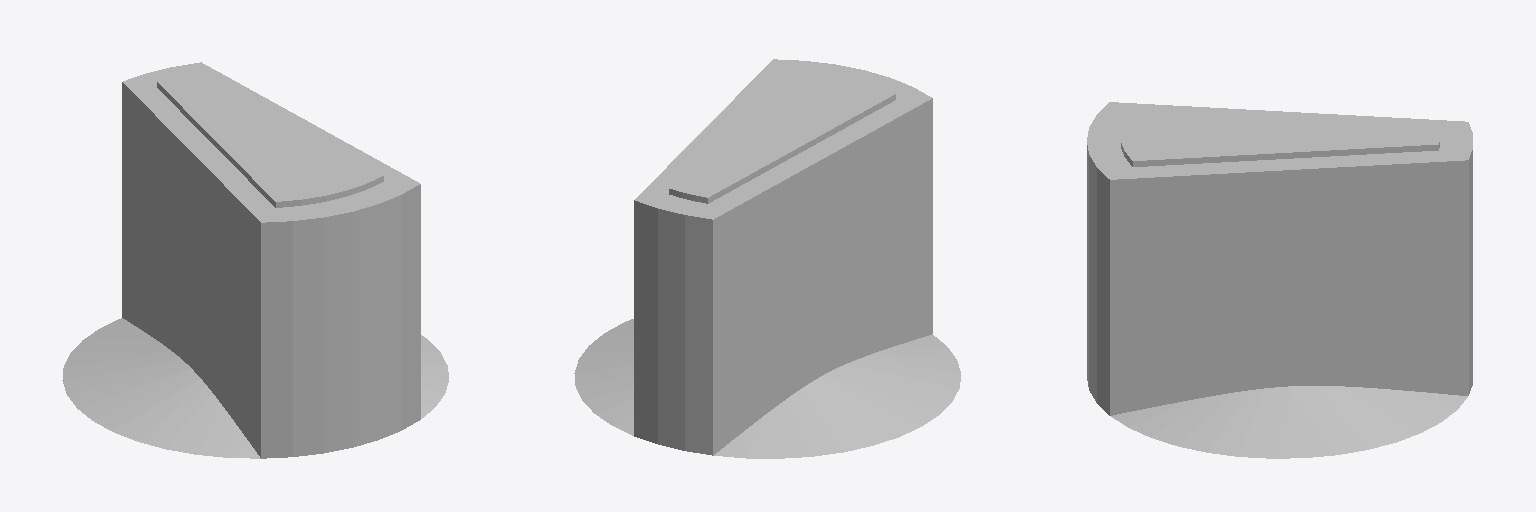
The model's file is Krugly_tumbler.obj.
The picture shows the model from 3 angles: view 1: azimuth 30°, elevation 25°; view 2: azimuth 150°, elevation 25°; view 3: azimuth 270°, elevation 25°; orthographic projection.
Parts seen in each view (by area): view 1: MeshBody2; view 2: MeshBody2; view 3: MeshBody2.
Boxes of the visible parts, x1=… form: MeshBody2: x1=62, y1=62, x2=448, y2=458; MeshBody2: x1=574, y1=59, x2=960, y2=458; MeshBody2: x1=1087, y1=102, x2=1472, y2=458.
Bounding box in the file's own units: 28.97 × 20 × 28.95.